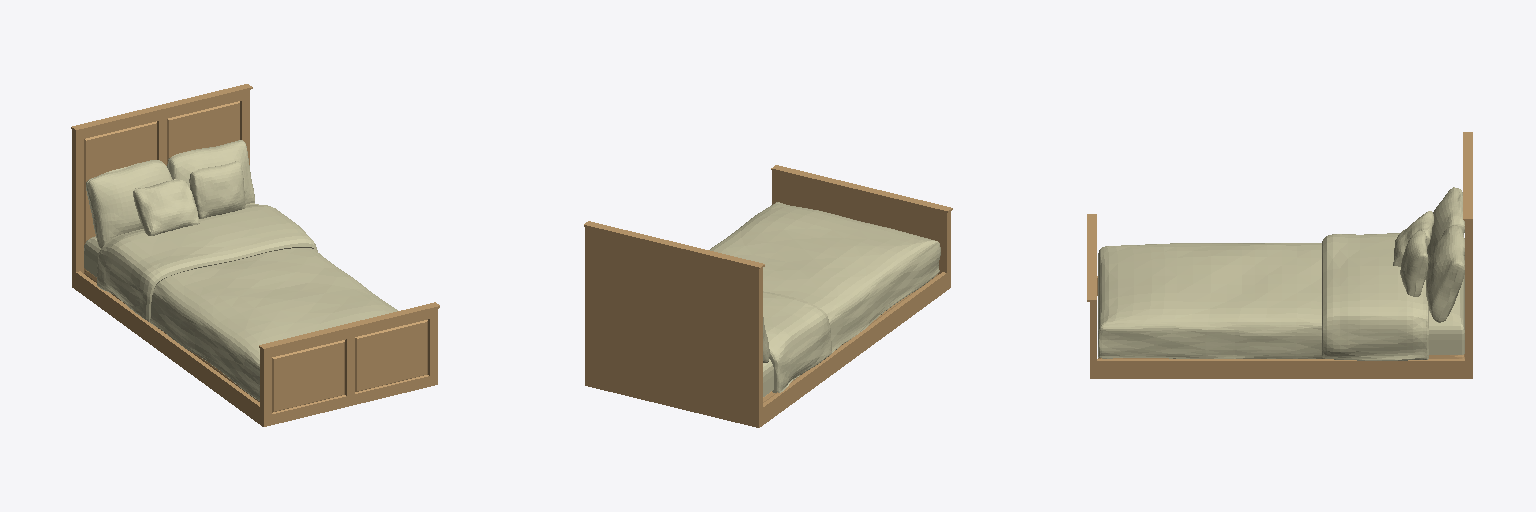
The model's file is cama5.obj.
The picture shows the model from 3 angles: view 1: azimuth 30°, elevation 25°; view 2: azimuth 150°, elevation 25°; view 3: azimuth 270°, elevation 25°; orthographic projection.
Parts seen in each view (by area): view 1: Twin_Size_Bed_With_Flax_Sheets_Pine_V1; view 2: Twin_Size_Bed_With_Flax_Sheets_Pine_V1; view 3: Twin_Size_Bed_With_Flax_Sheets_Pine_V1.
Boxes of the visible parts, x1=… form: Twin_Size_Bed_With_Flax_Sheets_Pine_V1: x1=71, y1=84, x2=439, y2=426; Twin_Size_Bed_With_Flax_Sheets_Pine_V1: x1=584, y1=165, x2=952, y2=427; Twin_Size_Bed_With_Flax_Sheets_Pine_V1: x1=1087, y1=132, x2=1472, y2=378.
Size of the model in its own units: 106 by 91.66 by 199.